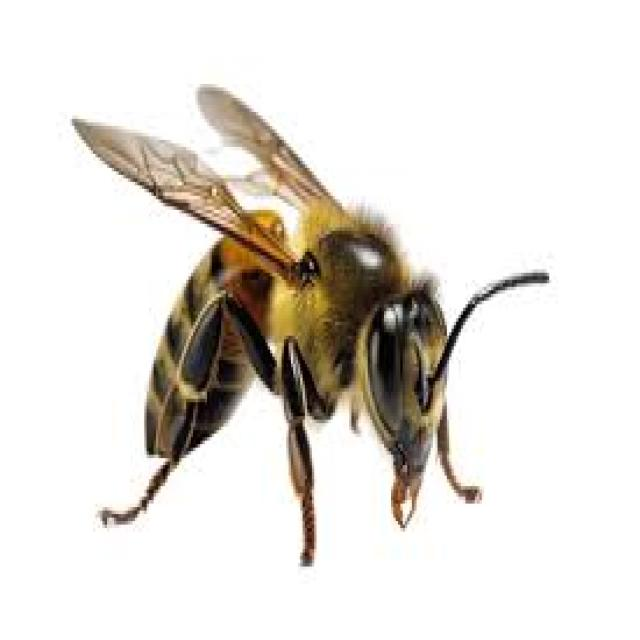Bees: (71, 81, 553, 566)
